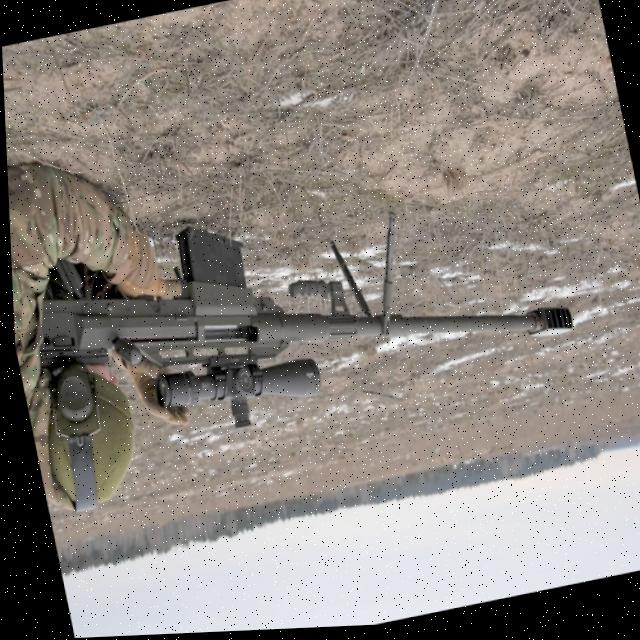firearm: (12, 154, 584, 473)
